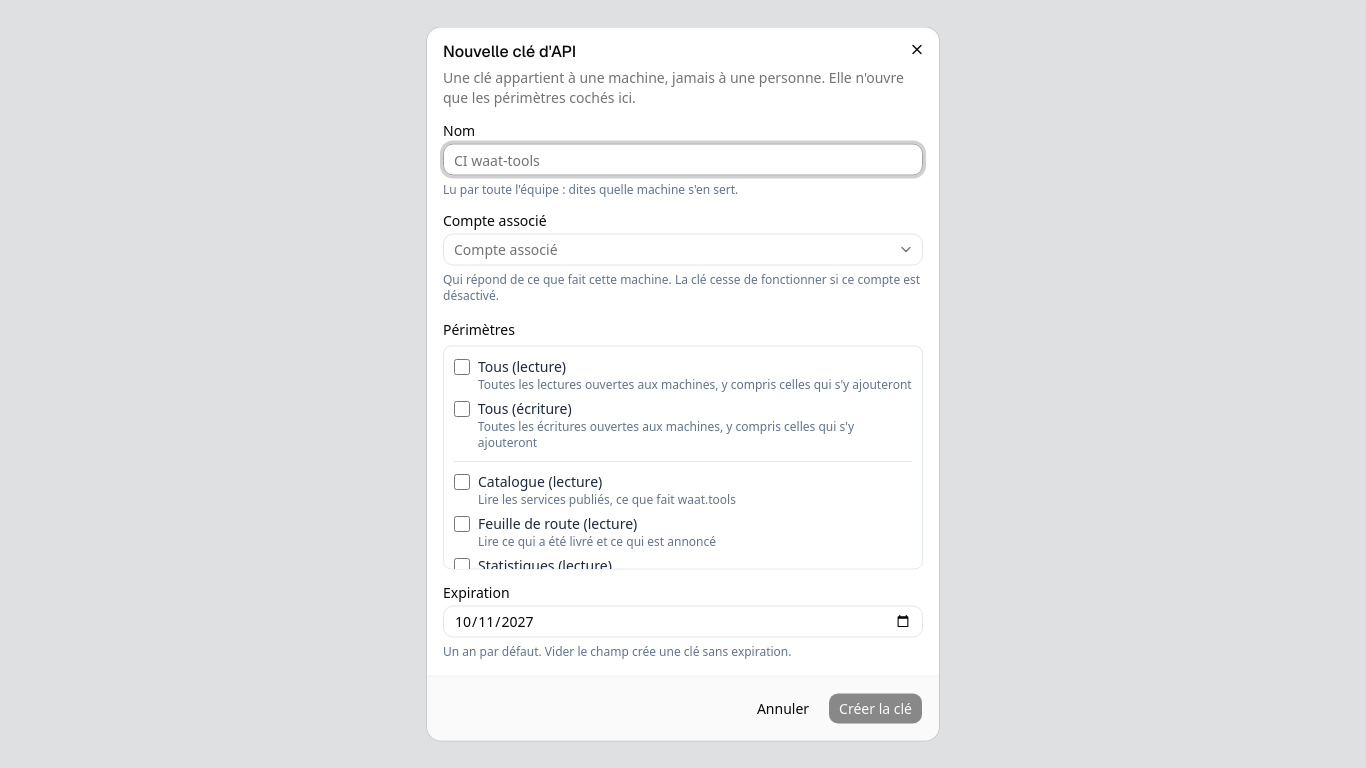
Scenario: CreateApiKeyDialog › what a broad scope carries › lets a broad scope be unticked again
The image size is (1366, 768).
Click the checkbox labelled "Tous (lecture)" at (462, 366), box [454, 358, 470, 374]
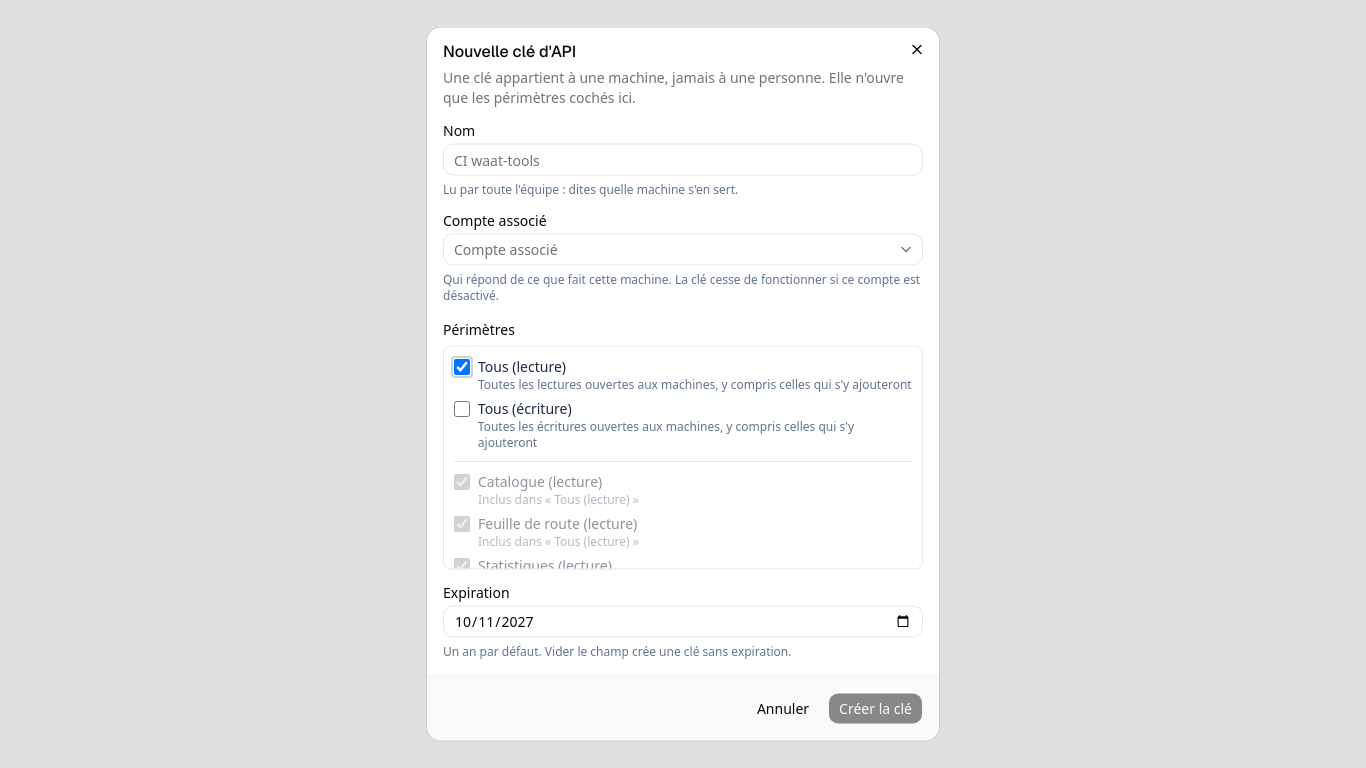
Click the checkbox labelled "Tous (lecture)" at (462, 366), box [454, 358, 470, 374]
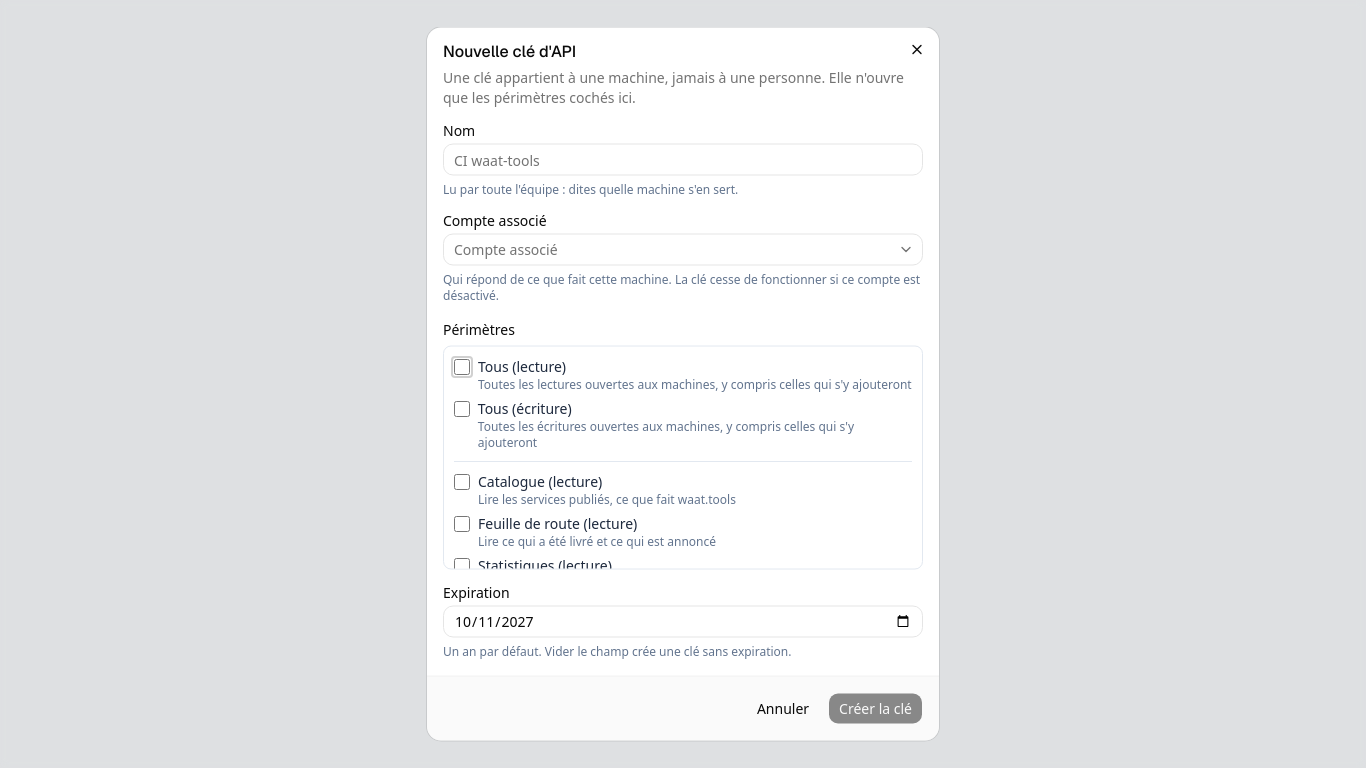
expect the checkbox labelled "Catalogue" is enabled: met, box [454, 474, 470, 490]
